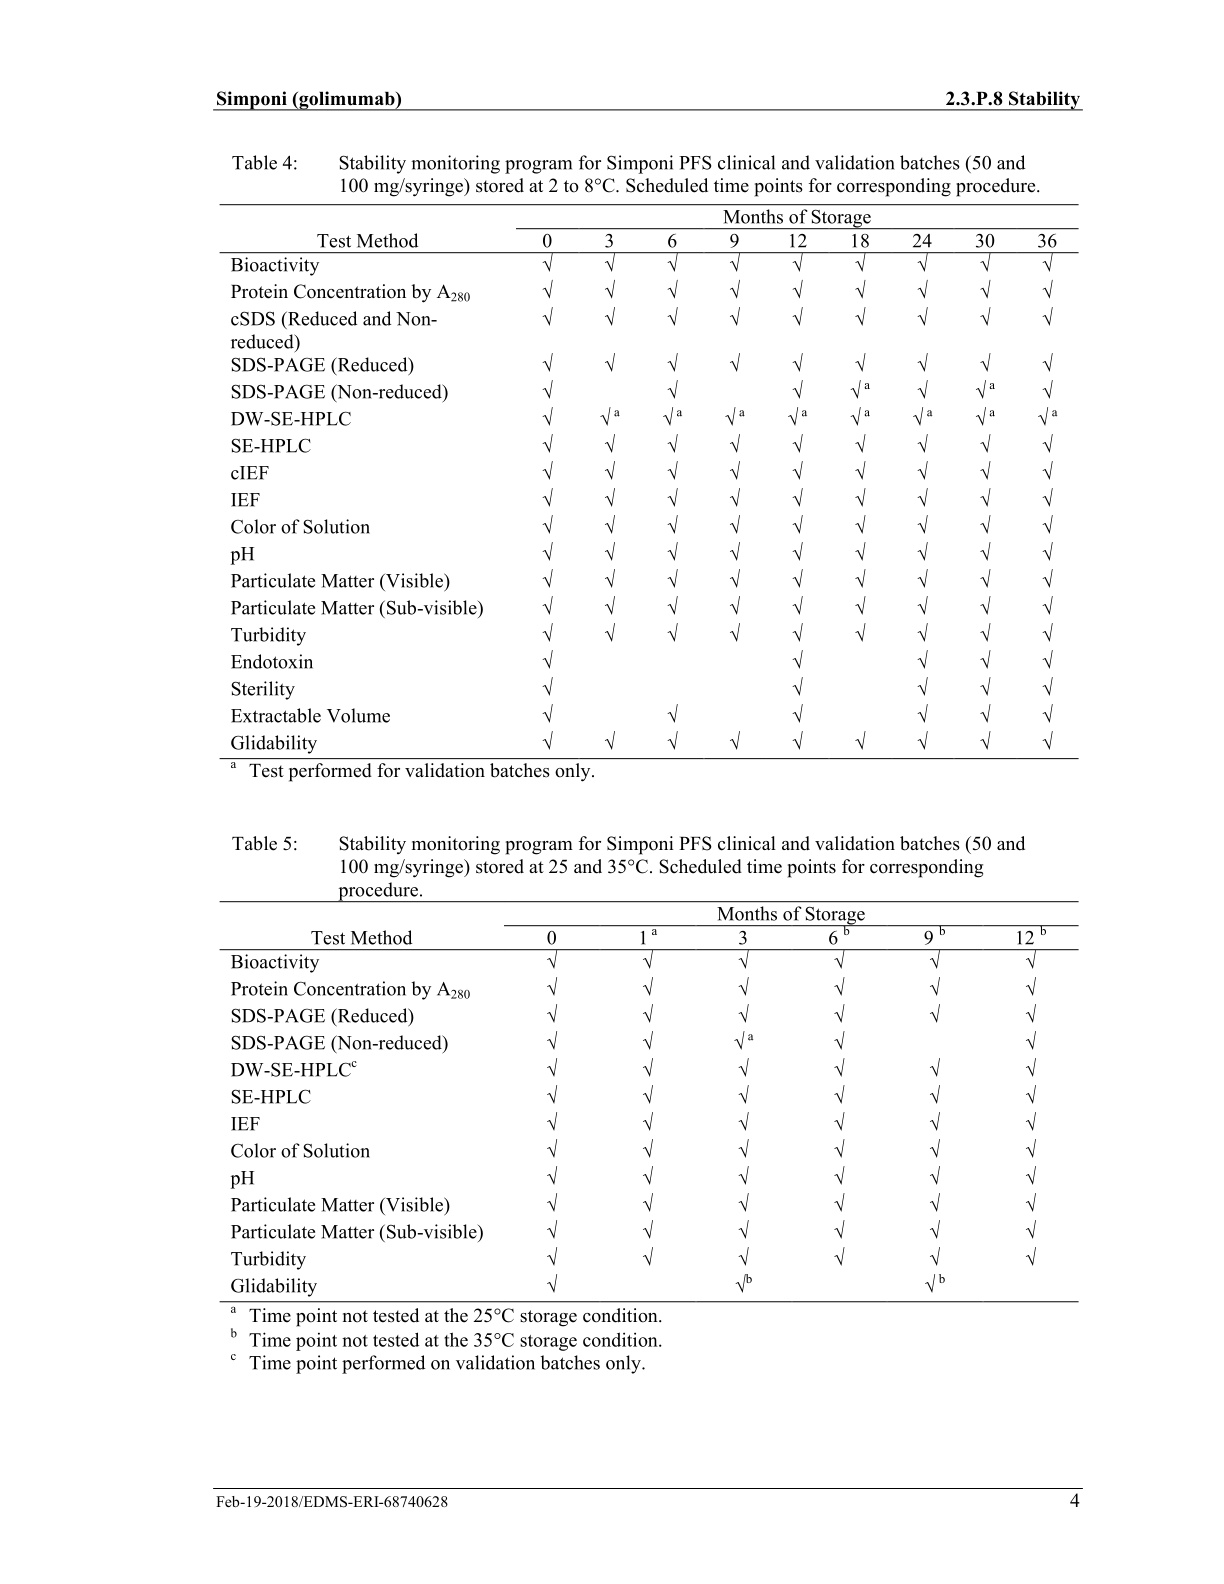partial_lined_merged_cells: (219, 202, 1079, 761), (219, 900, 1080, 1304)
